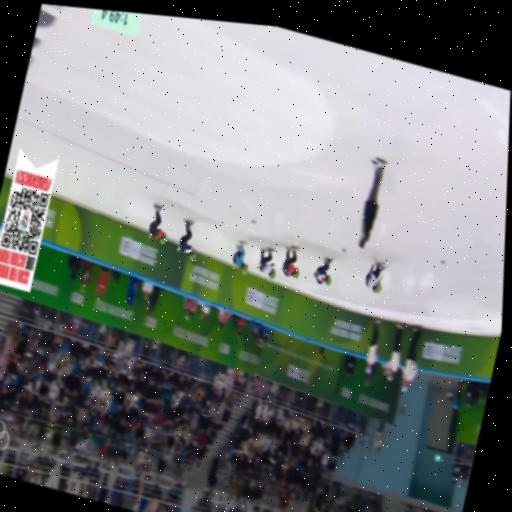Skater: (177, 219, 195, 258), (365, 261, 386, 292), (149, 205, 166, 243), (282, 246, 298, 278), (258, 248, 275, 278), (313, 257, 331, 284), (232, 242, 247, 273)
